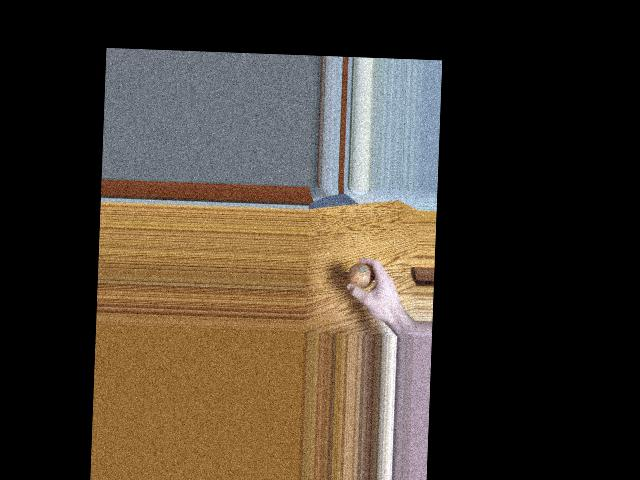onion: (348, 261, 378, 292)
